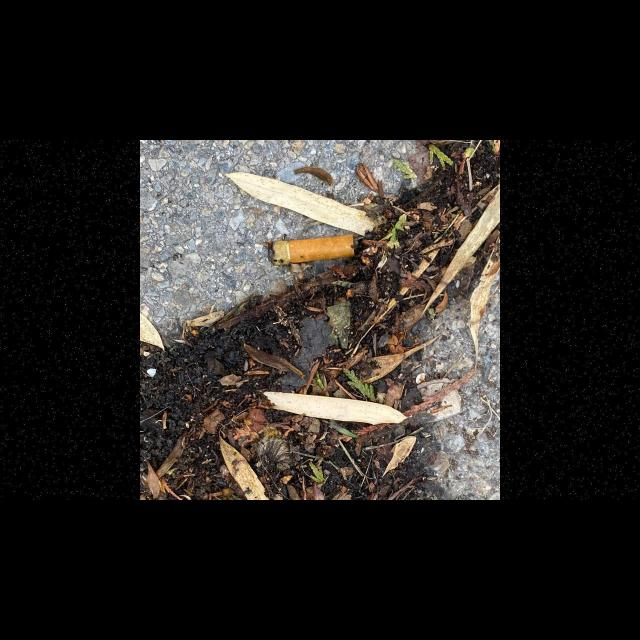cigarette: (264, 233, 355, 266)
